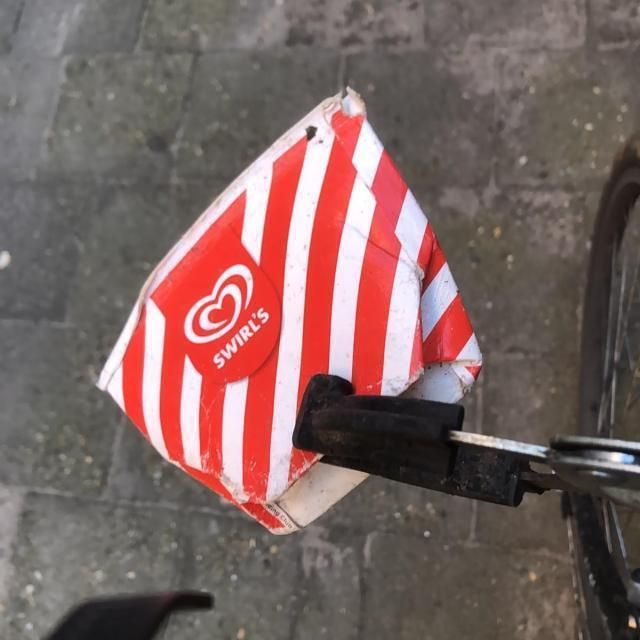Paper: (89, 81, 486, 538)
